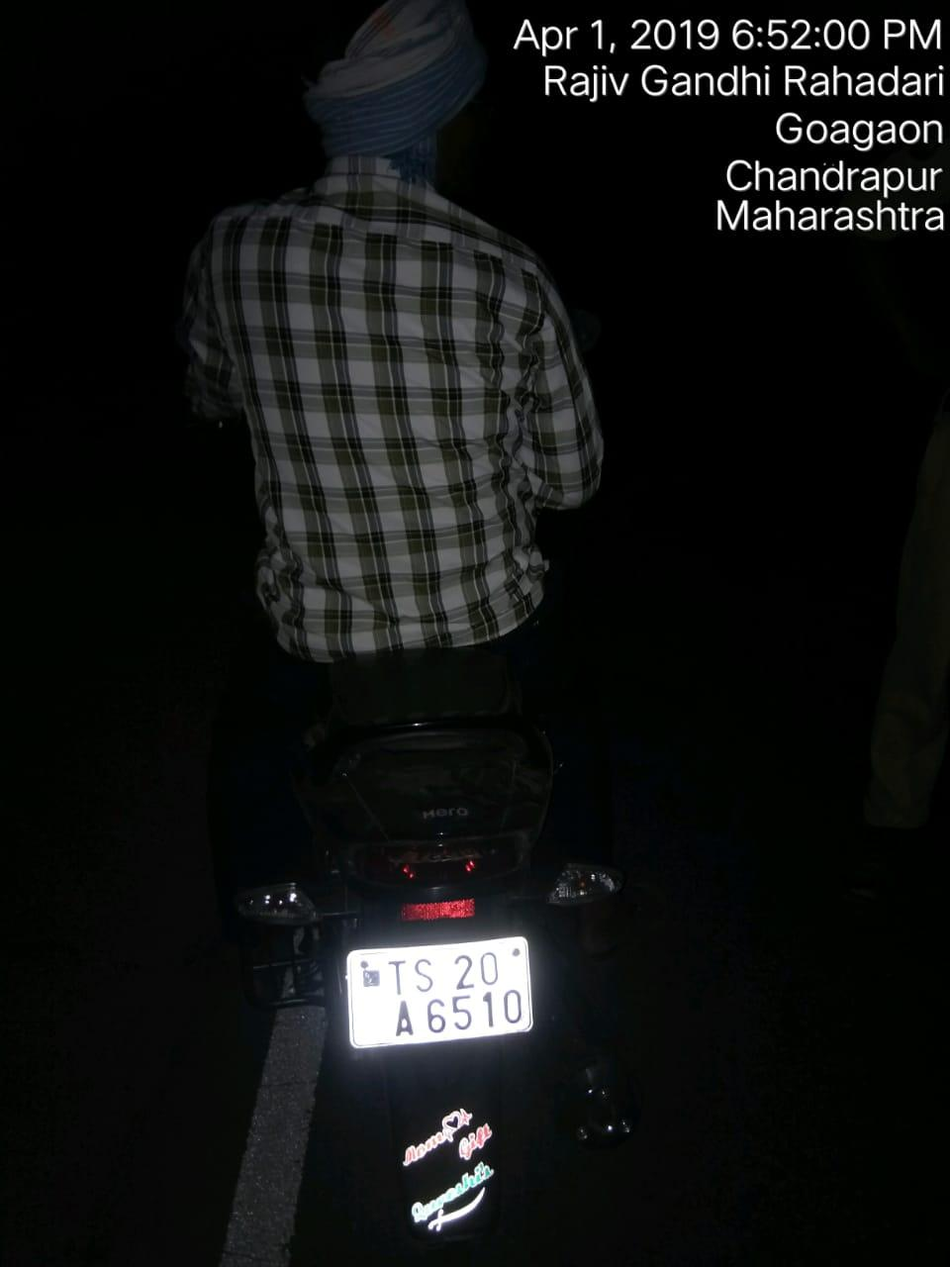plate: (332, 932, 557, 1064)
